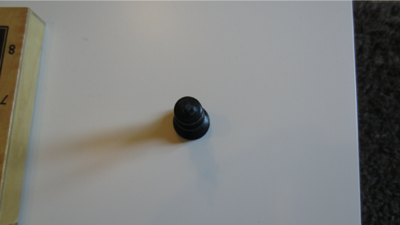black-king: (173, 97, 211, 141)
